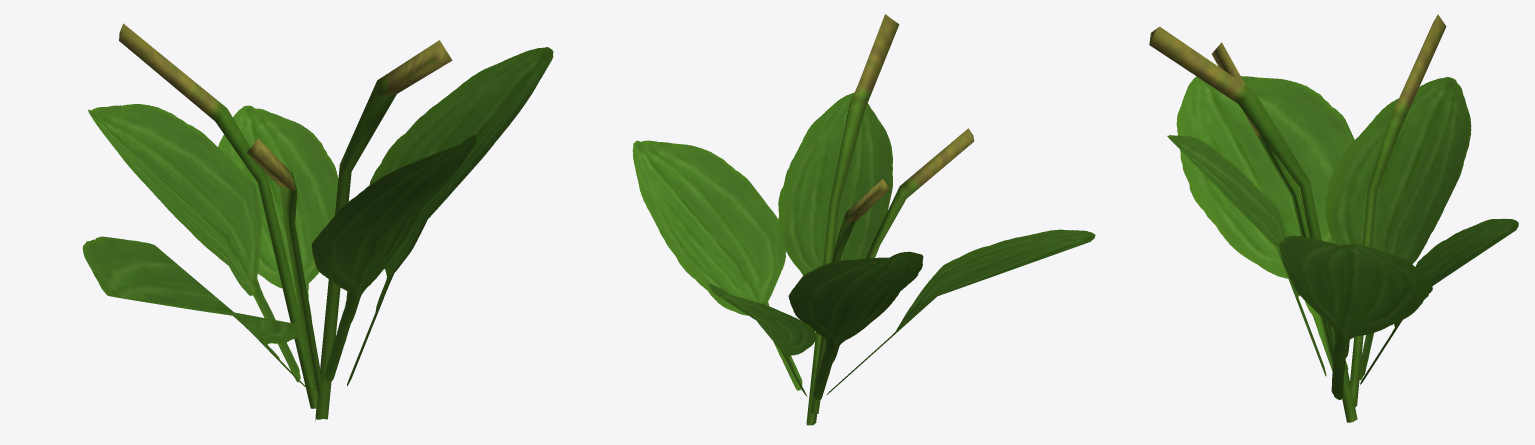
The model's file is Plantain.fbx.
3 views of the same model, side by side, from view 1: azimuth 30°, elevation 25°; view 2: azimuth 150°, elevation 25°; view 3: azimuth 270°, elevation 25° (orthographic). The views are drawn at different scales.
Visible parts, largest first — view 1: Plantain; view 2: Plantain; view 3: Plantain.
Boxes of the visible parts, box(x1,y1,x2,y2) form: Plantain: box(82, 23, 553, 421); Plantain: box(632, 14, 1095, 425); Plantain: box(1149, 14, 1518, 422).
Size of the model in its own units: 49.63 by 39.26 by 33.97.
